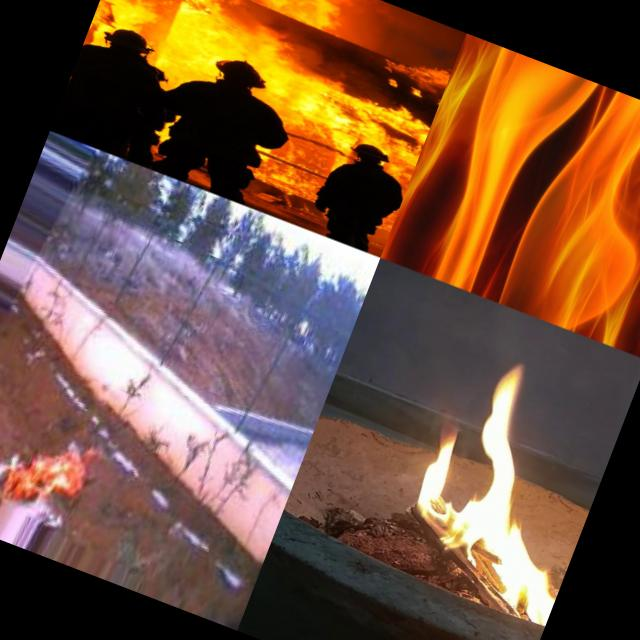fire: (380, 33, 640, 360), (386, 345, 630, 627), (87, 0, 466, 159), (0, 408, 109, 531)
